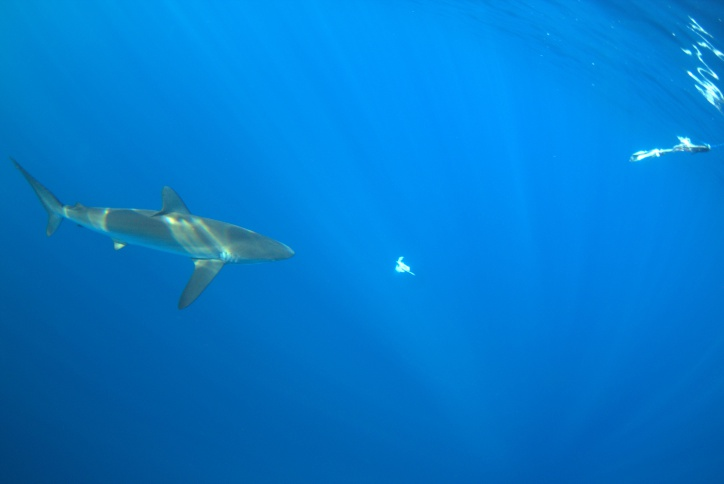Sedoso: (8, 147, 306, 313)
